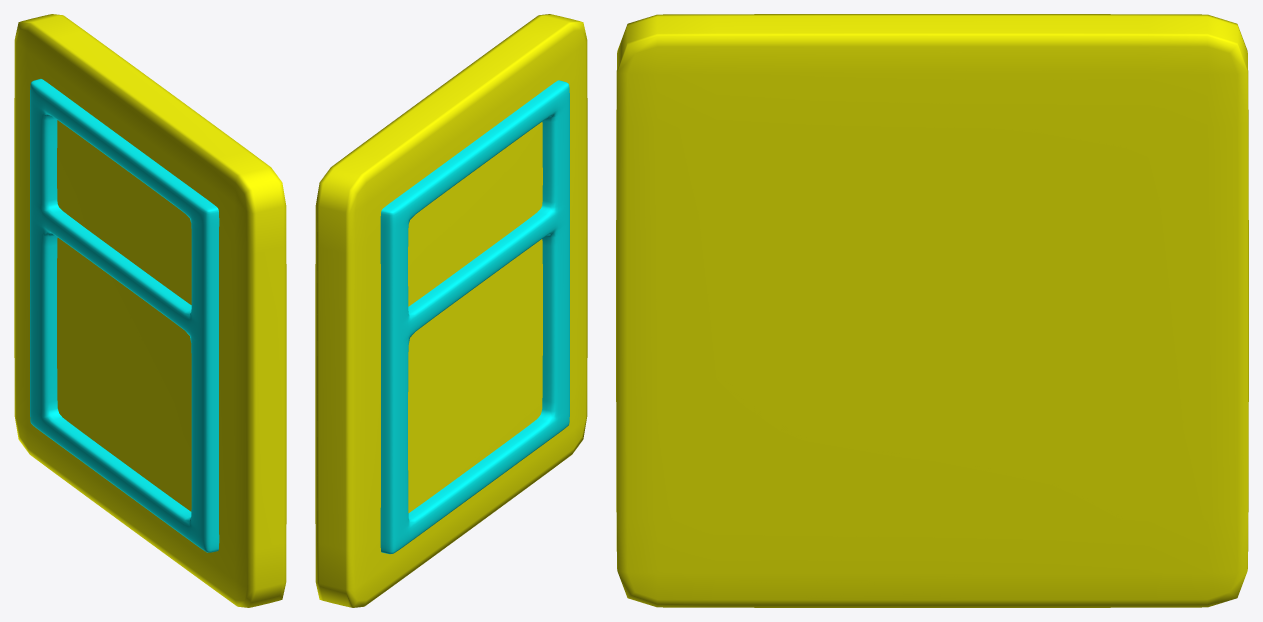
The picture shows the model from 3 angles, left to right: view 1: azimuth 30°, elevation 25°; view 2: azimuth 150°, elevation 25°; view 3: azimuth 270°, elevation 25°; orthographic projection. The views are drawn at different scales.
Visible parts, largest first — view 1: polySurface964; view 2: polySurface964; view 3: polySurface964.
Boxes of the visible parts, bbox=[...] form: polySurface964: bbox=[14, 14, 286, 607]; polySurface964: bbox=[315, 14, 587, 607]; polySurface964: bbox=[616, 14, 1248, 607].
Bounding box in the file's own units: 0.1292 × 0.9994 × 0.9994.
